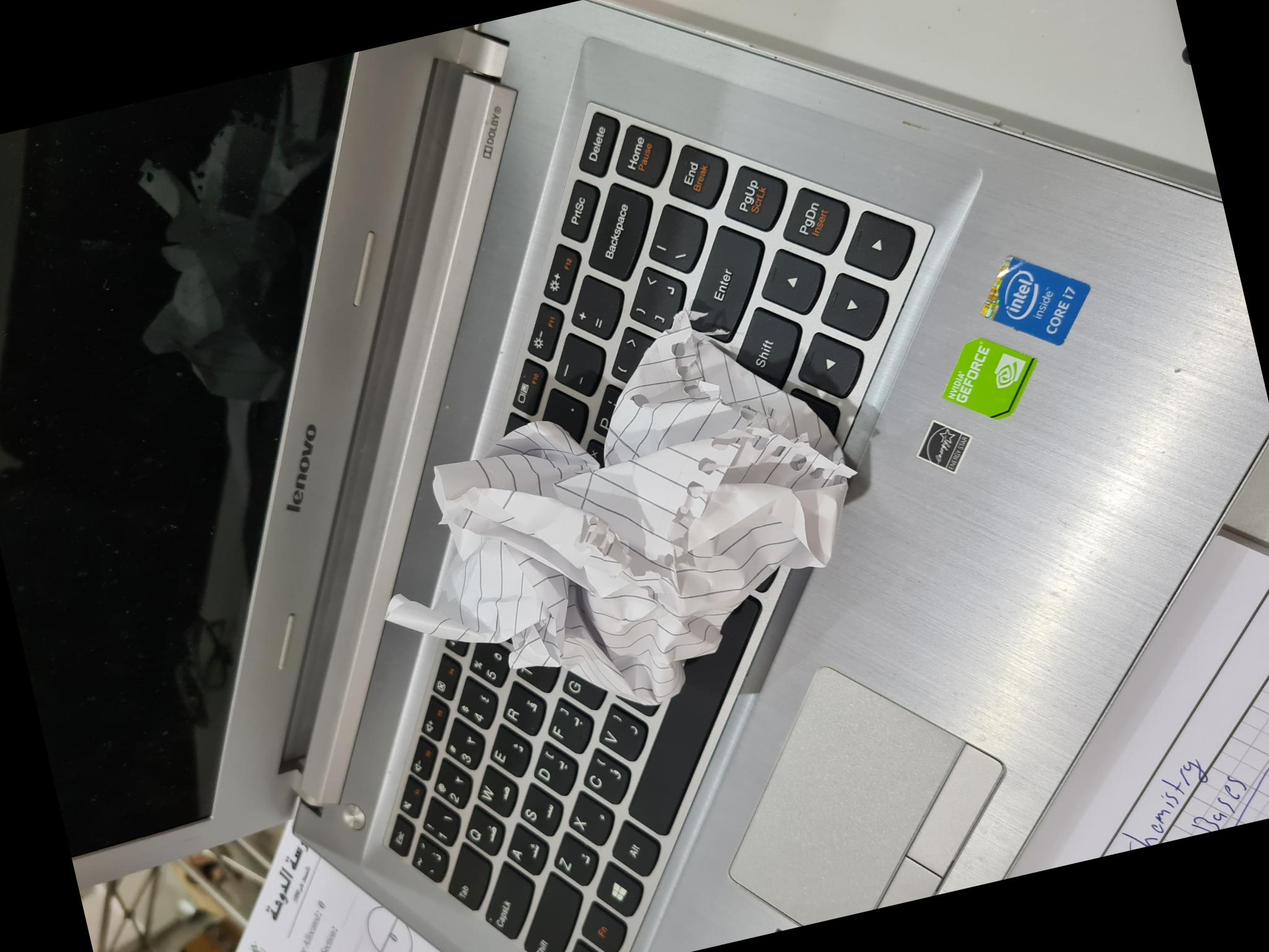Kertas: (266, 425, 696, 890)
